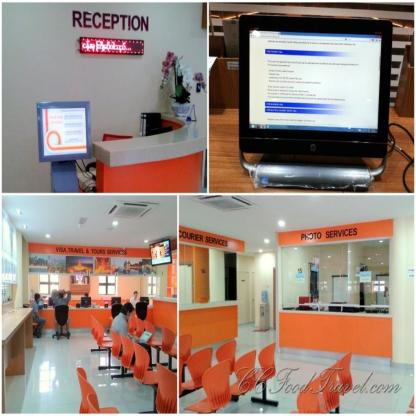board: (139, 330, 152, 343), (38, 300, 43, 308)
